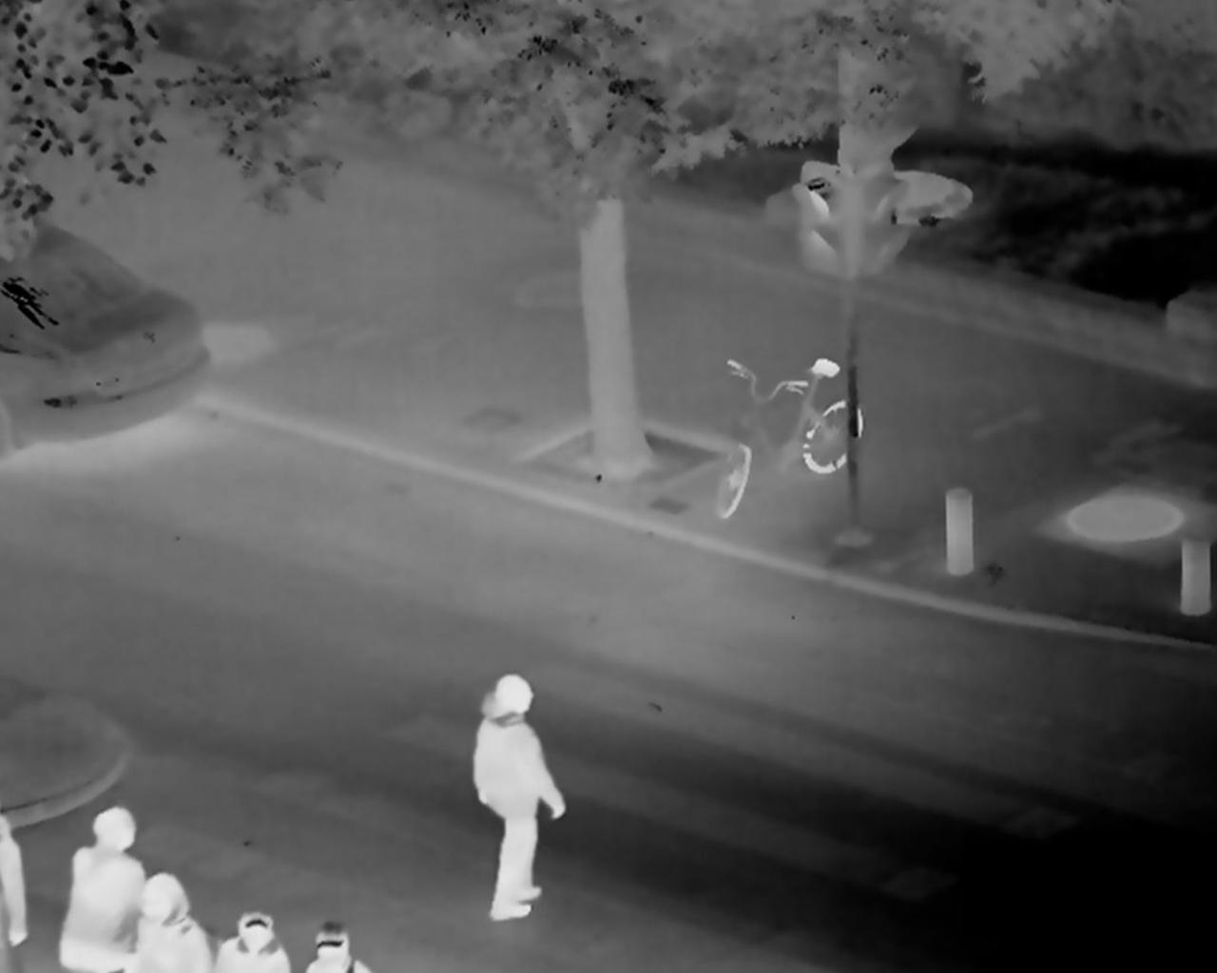person: (468, 676, 563, 918), (57, 808, 139, 973), (134, 871, 212, 973), (214, 909, 288, 973), (289, 918, 370, 973)
